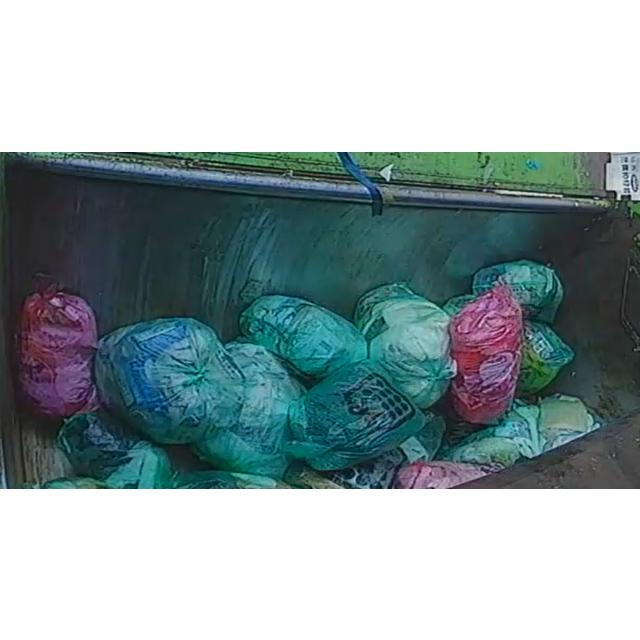general_trashbag: (95, 317, 242, 443), (285, 360, 426, 470), (194, 342, 305, 477), (354, 282, 456, 408), (240, 295, 368, 377), (471, 258, 564, 322), (516, 324, 575, 394)
other_trashbag: (444, 282, 522, 424), (19, 284, 99, 415)
